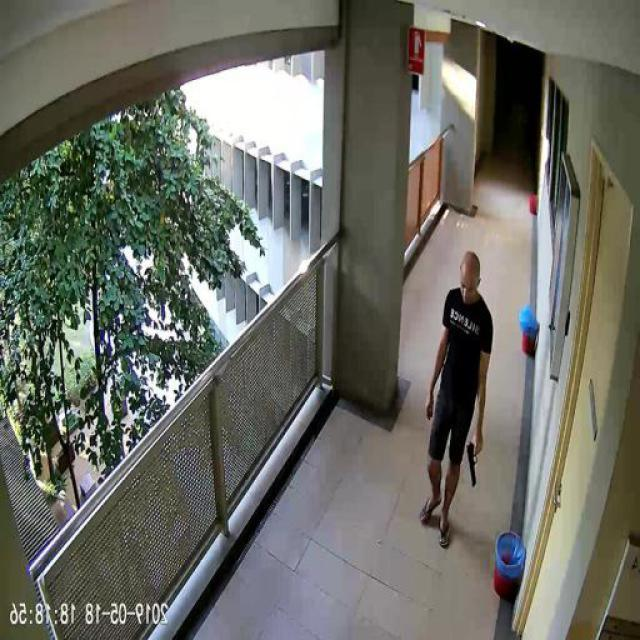weapon: (465, 434, 483, 488)
